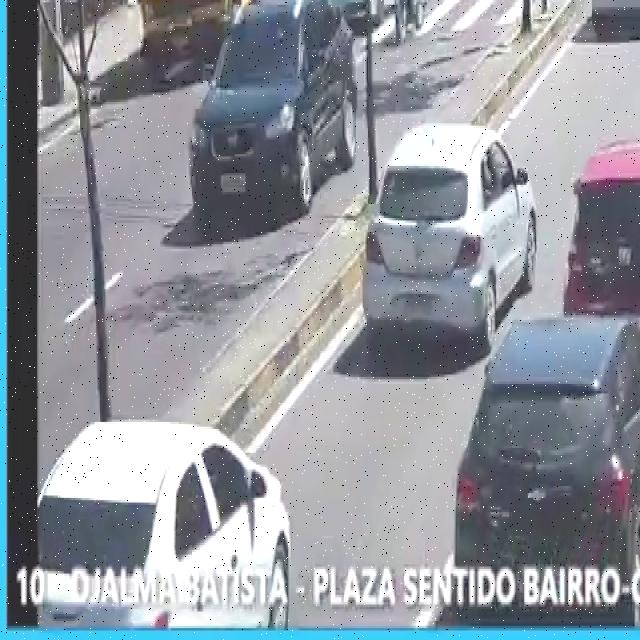biker: (388, 0, 429, 43)
car: (37, 428, 295, 627), (449, 308, 640, 562), (356, 116, 539, 359), (182, 0, 358, 230), (557, 140, 640, 396), (305, 0, 396, 38), (586, 0, 640, 26)
truck: (136, 0, 319, 62)
